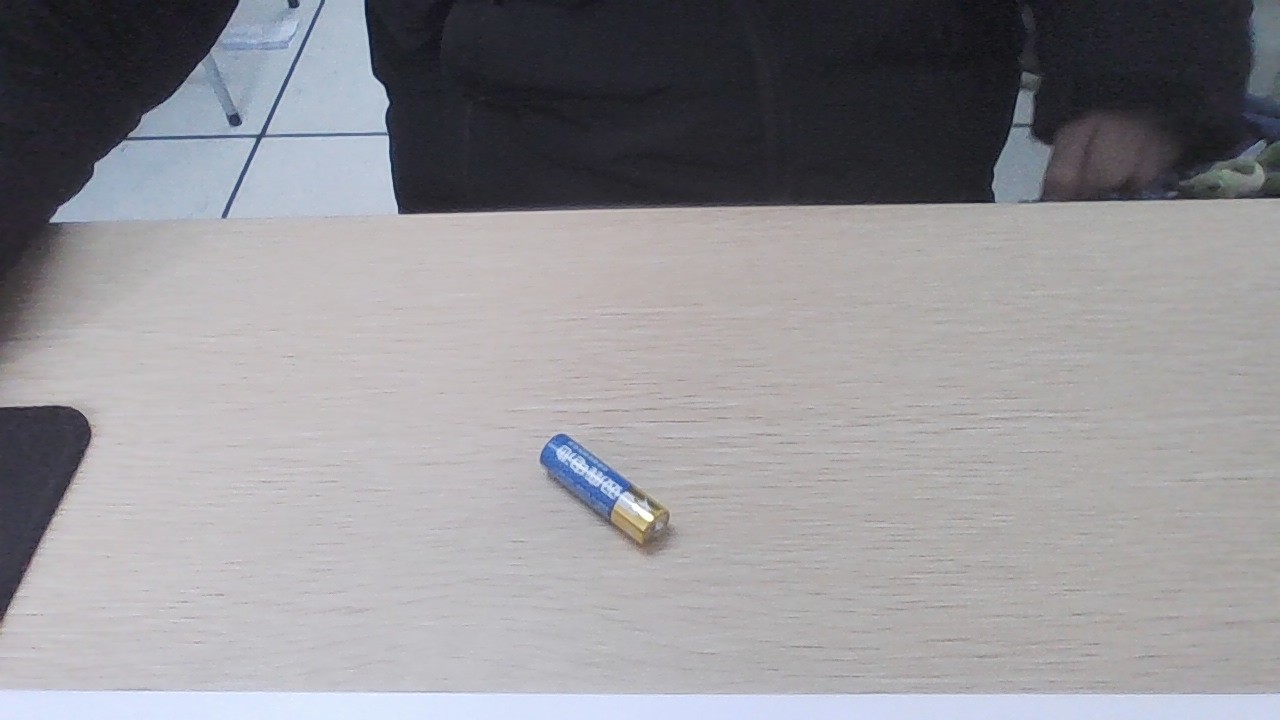YH-battery: (533, 424, 668, 548)
